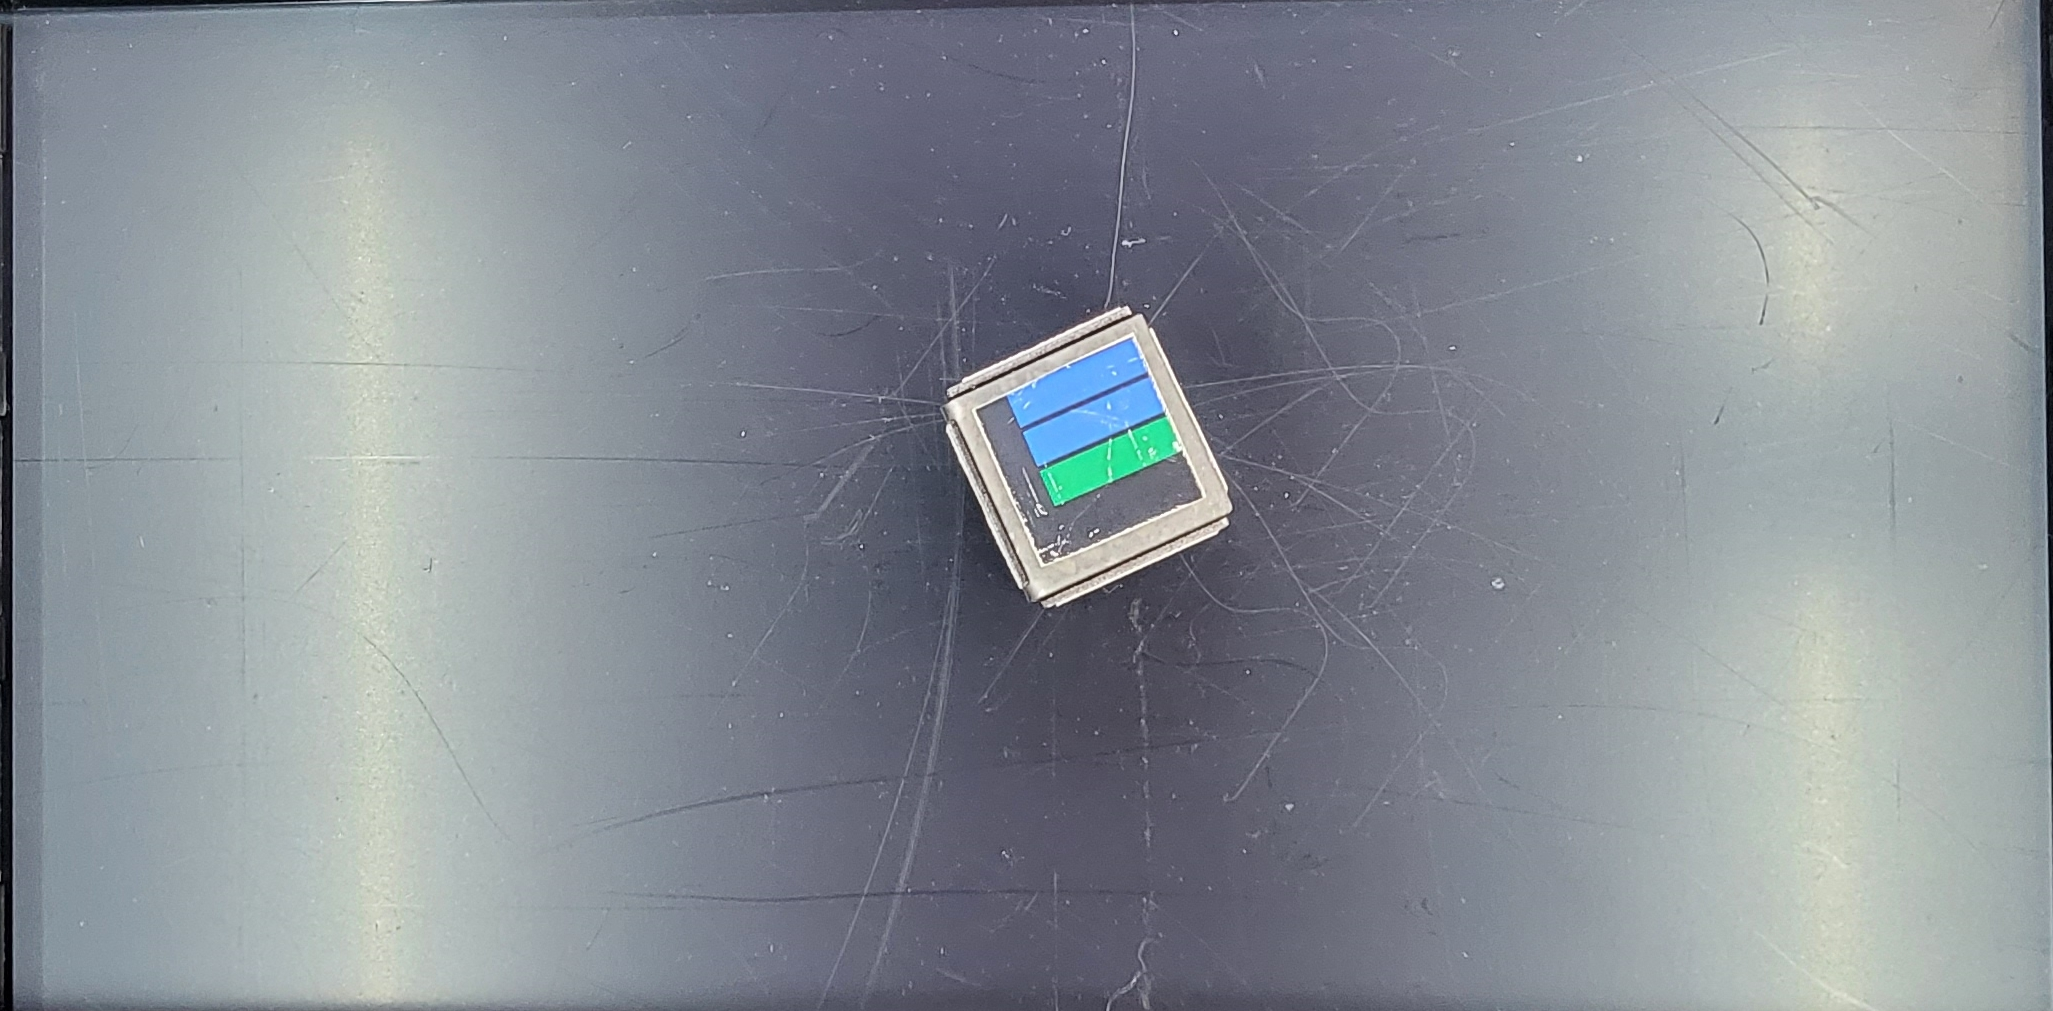Cube: (905, 278, 1235, 633)
